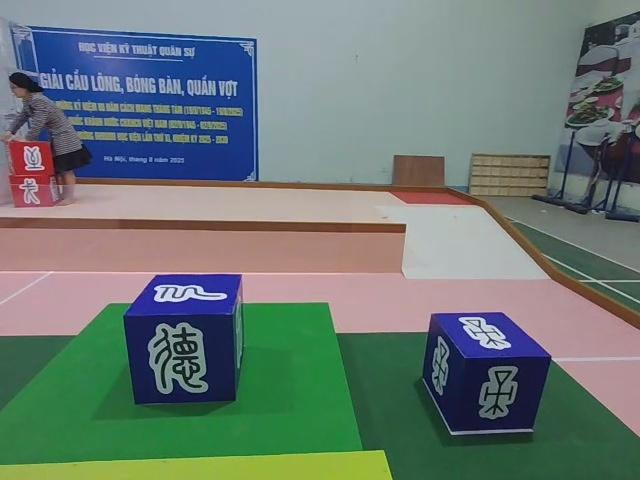R2 Fake Blue: (126, 272, 247, 406)
R2 Real Blue: (424, 314, 550, 441)
